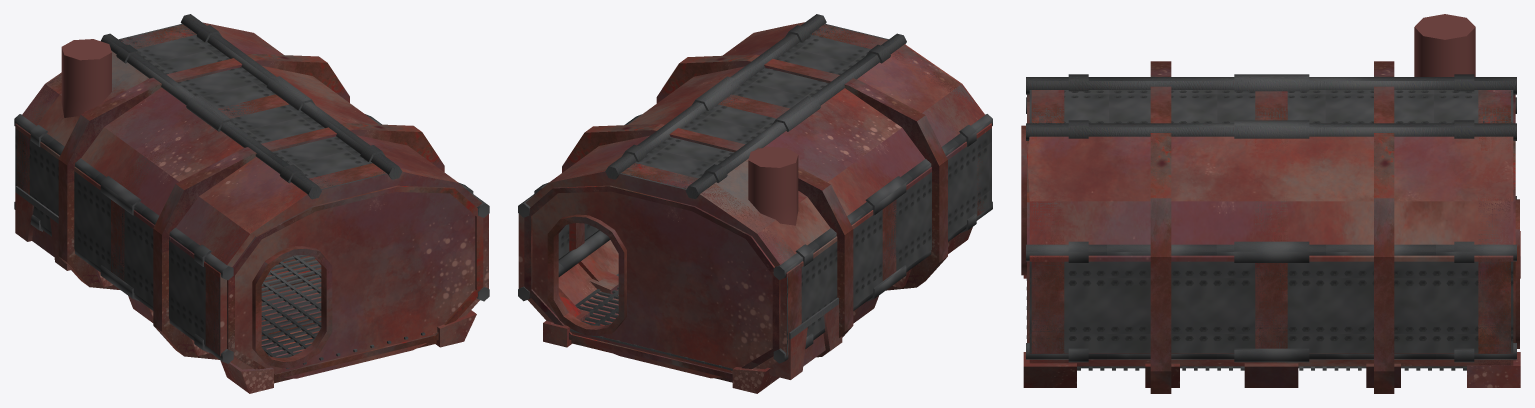
Rendered from Storage_Room.obj.
3 renders of one model, left to right at view 1: azimuth 30°, elevation 25°; view 2: azimuth 150°, elevation 25°; view 3: azimuth 270°, elevation 25°, orthographic. The views are drawn at different scales.
Parts seen in each view (by area): view 1: Cube.011; view 2: Cube.011; view 3: Cube.011.
Part boxes in pixels (x1,y1,x2,y2): Cube.011: [14, 14, 489, 393]; Cube.011: [518, 14, 992, 393]; Cube.011: [1021, 14, 1520, 393].
Size of the model in its own units: 6.32 by 4.8 by 8.2.
Materials: 5 (5 with a texture image).
